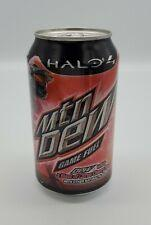metal: (27, 30, 119, 194)
